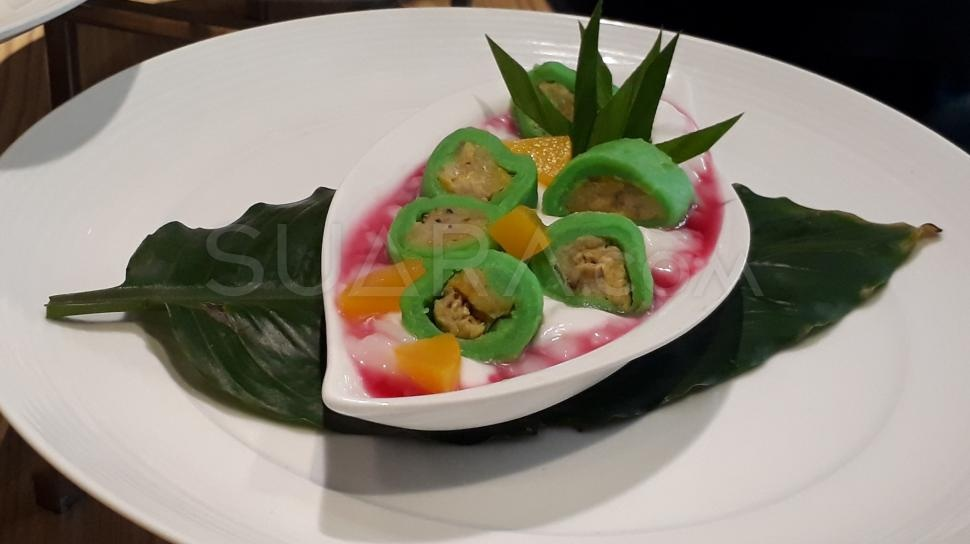es_pisang_ijo: (339, 56, 723, 392)
